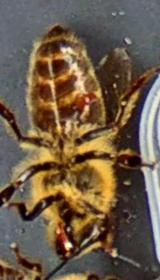varroa_mite: (66, 86, 103, 117)
